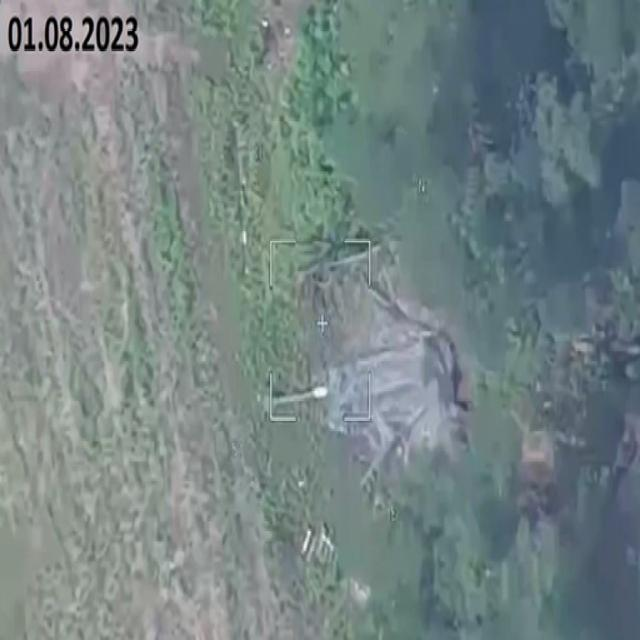ART: (258, 291, 460, 489)
